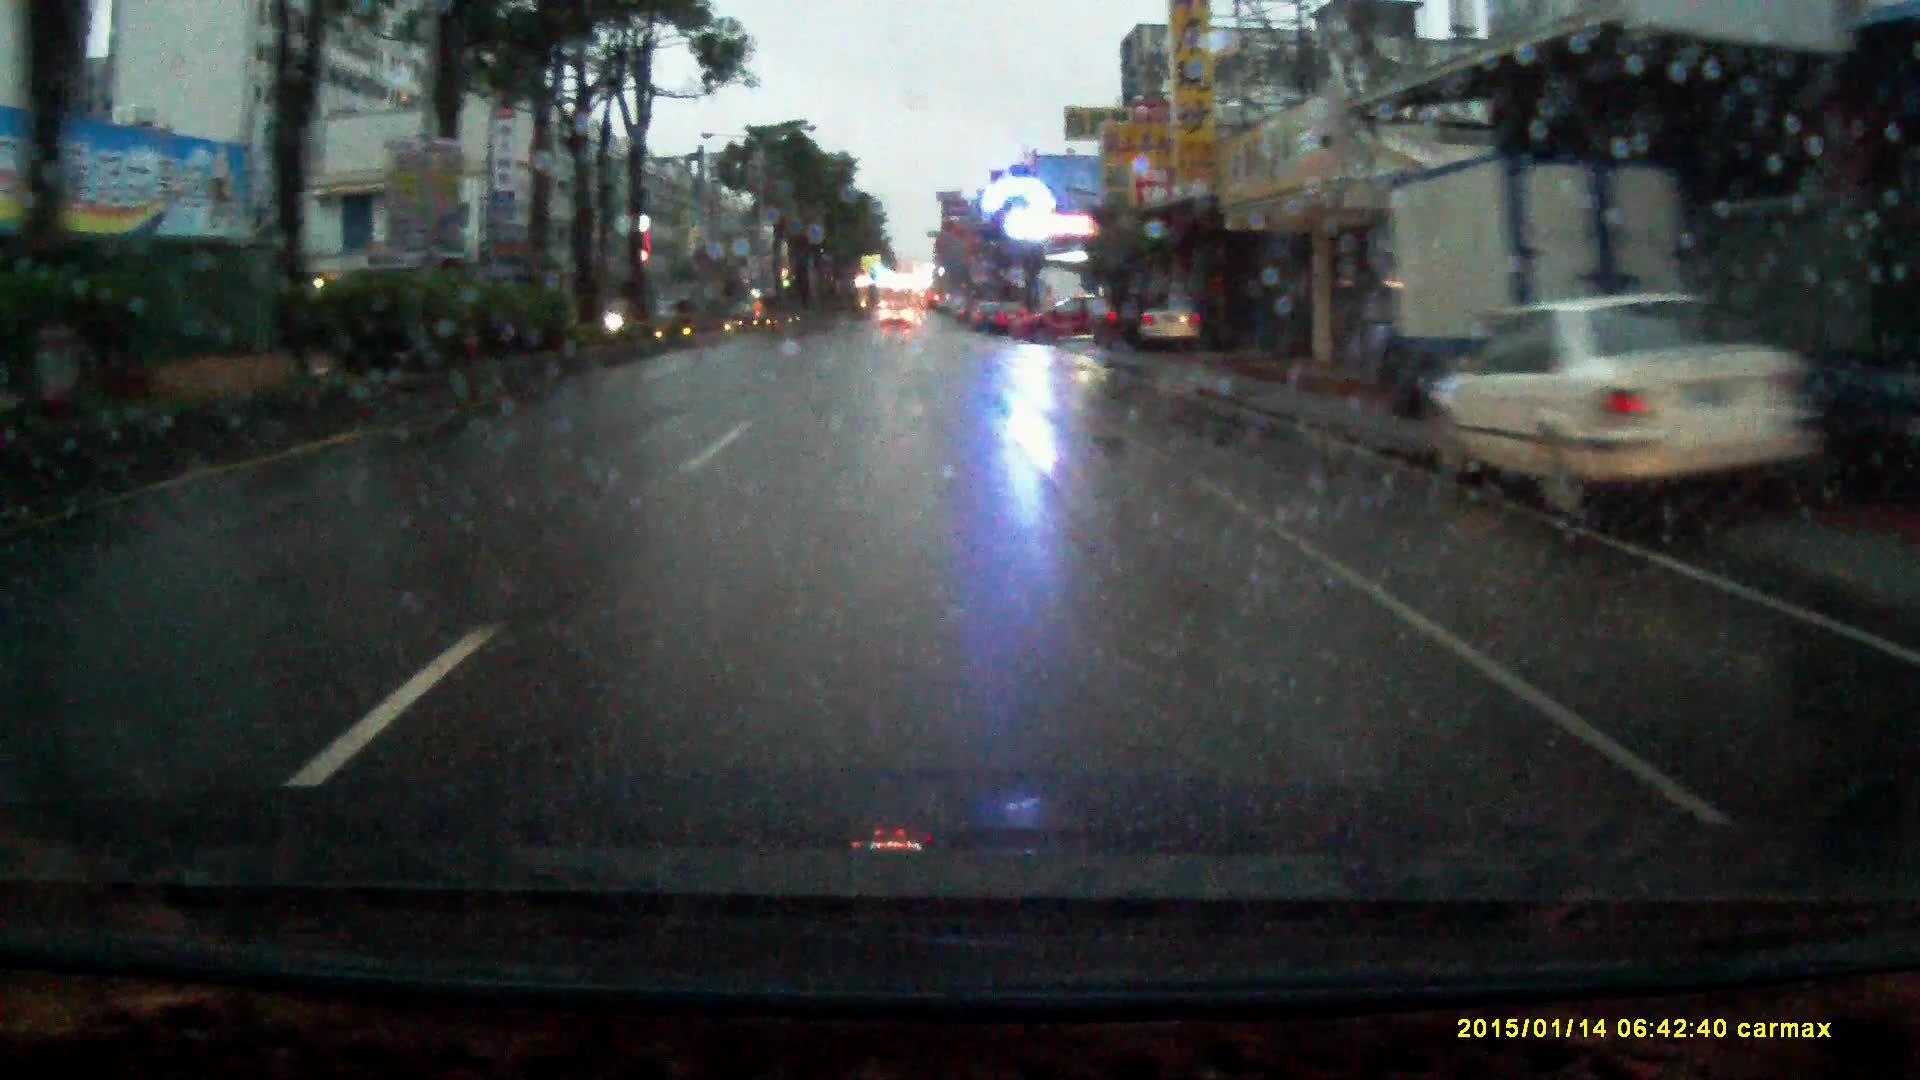vehicle: (1360, 120, 1716, 417), (1425, 293, 1846, 529), (1011, 291, 1116, 343), (1125, 291, 1207, 345), (1091, 291, 1156, 345), (988, 298, 1030, 331), (881, 302, 913, 328)
